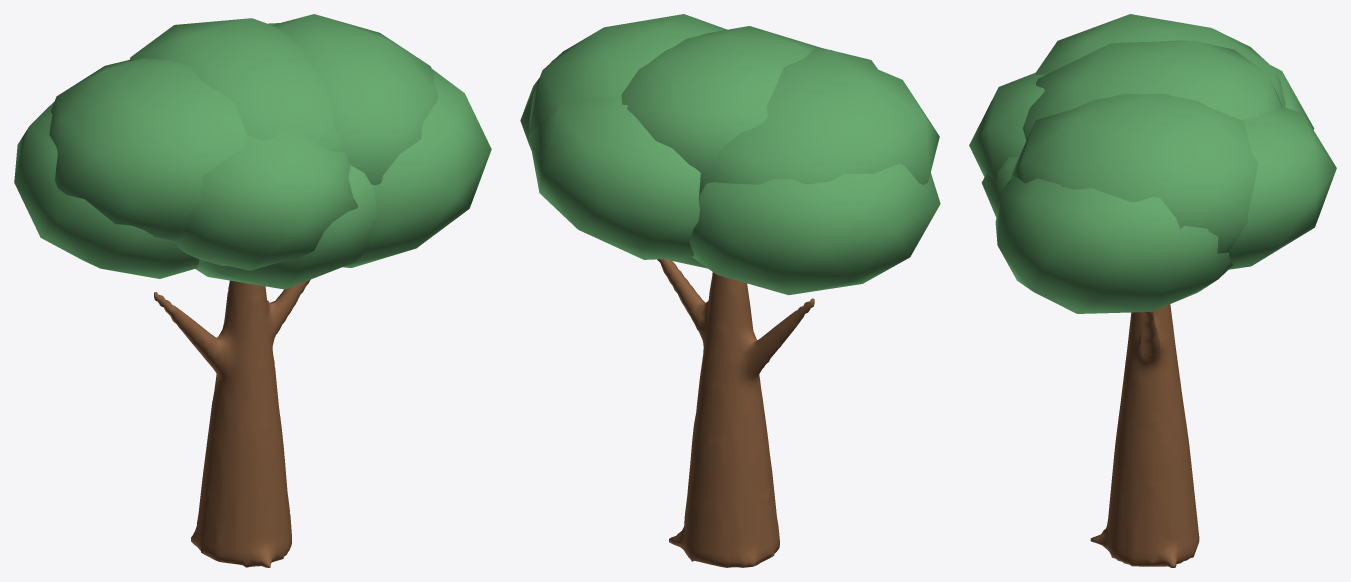
Rendered from NaturalTree_02_Wide.fbx.
The picture shows the model from 3 angles, left to right: view 1: azimuth 30°, elevation 25°; view 2: azimuth 150°, elevation 25°; view 3: azimuth 270°, elevation 25°; orthographic projection. The views are drawn at different scales.
Parts seen in each view (by area): view 1: Foliage_01.001, Trunk.001, Foliage_03.001, Foliage_02.001, Foliage_00.001, Foliage_06.001, Foliage_05.001, Foliage_07.001; view 2: Foliage_05.001, Trunk.001, Foliage_01.001, Foliage_04.001, Foliage_00.001, Foliage_02.001; view 3: Foliage_02.001, Foliage_06.001, Trunk.001, Foliage_00.001, Foliage_04.001, Foliage_01.001, Foliage_03.001, Foliage_07.001, Foliage_05.001.
Boxes of the visible parts, x1,y1,x2,y2 form: Foliage_01.001: (49, 58, 248, 241); Trunk.001: (154, 279, 310, 567); Foliage_03.001: (176, 124, 357, 270); Foliage_02.001: (272, 14, 438, 185); Foliage_00.001: (129, 18, 345, 152); Foliage_06.001: (342, 69, 491, 267); Foliage_05.001: (14, 101, 199, 278); Foliage_07.001: (195, 165, 377, 289); Foliage_05.001: (689, 164, 940, 295); Trunk.001: (657, 259, 814, 567); Foliage_01.001: (699, 50, 939, 196); Foliage_04.001: (529, 95, 700, 259); Foliage_00.001: (621, 26, 827, 172); Foliage_02.001: (529, 14, 726, 134); Foliage_02.001: (1007, 93, 1258, 253); Foliage_06.001: (995, 177, 1232, 313); Trunk.001: (1090, 304, 1199, 567); Foliage_00.001: (1023, 40, 1282, 140); Foliage_04.001: (1229, 106, 1336, 269); Foliage_01.001: (1035, 14, 1285, 107); Foliage_03.001: (969, 72, 1046, 183); Foliage_07.001: (981, 157, 1018, 217); Foliage_05.001: (1270, 65, 1314, 129).
Bounding box in the file's own units: 2.36 × 2.79 × 1.89.
